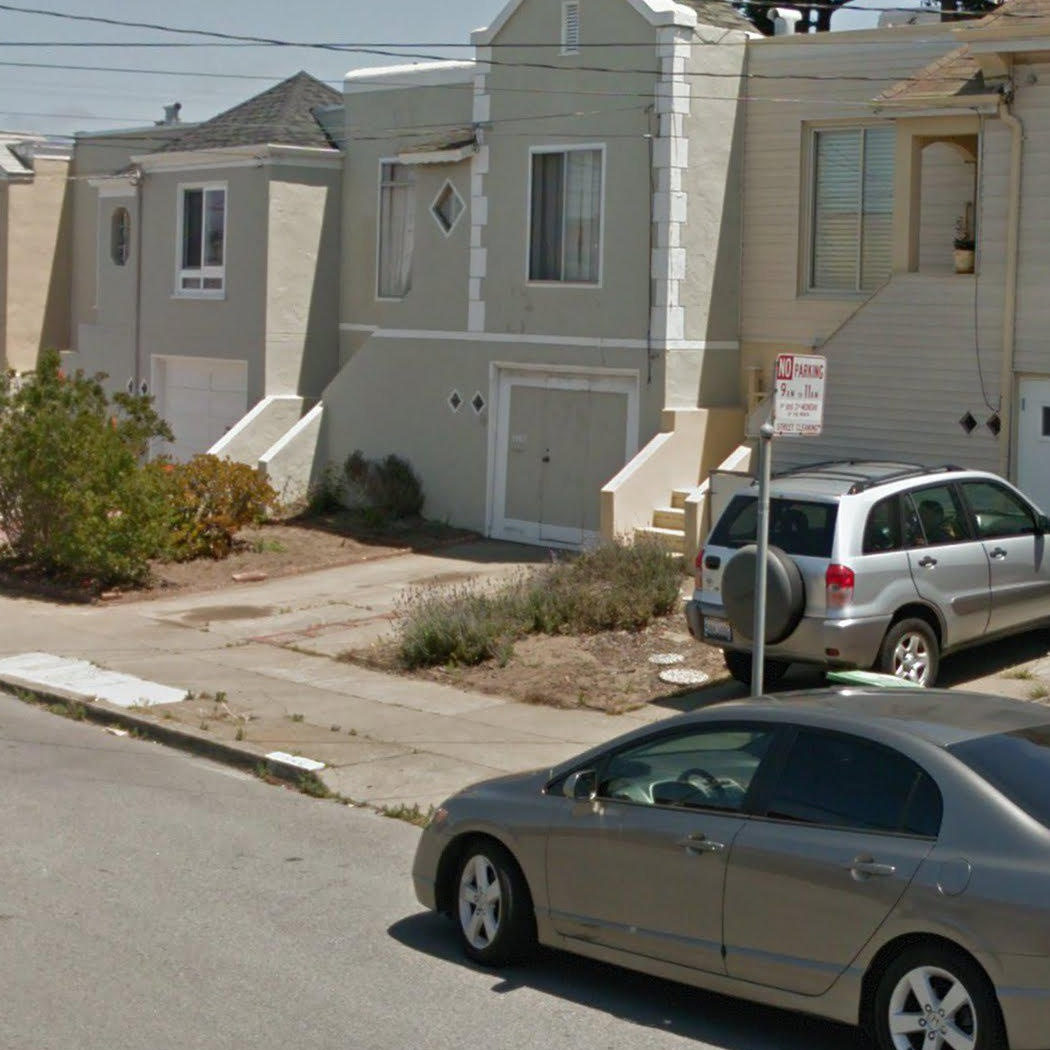No Parking: (773, 352, 825, 439)
